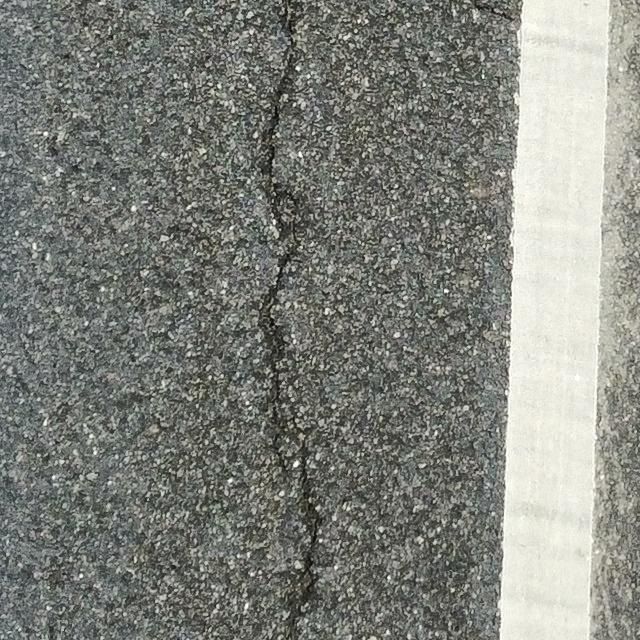LongitudinalCrack: (256, 8, 323, 623)
